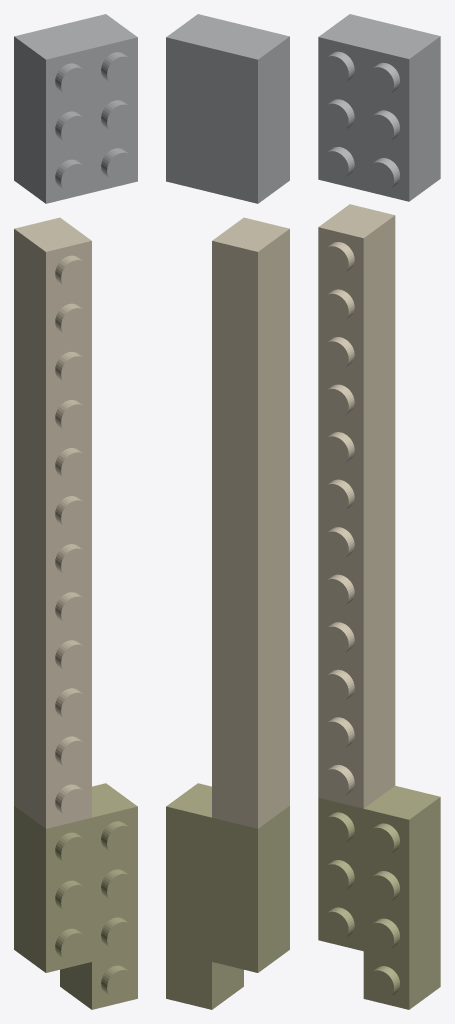
The model's file is current.glb.
The picture shows the model from 3 angles, left to right: view 1: azimuth 30°, elevation 25°; view 2: azimuth 150°, elevation 25°; view 3: azimuth 330°, elevation 25°; orthographic projection.
Visible parts, largest first — view 1: world; view 2: world; view 3: world.
Part boxes in pixels (x1,y1,x2,y2): world: (14, 14, 137, 1009); world: (166, 14, 289, 1009); world: (318, 14, 440, 1009).
Bounding box in the file's own units: 16 × 160 × 11.4.
